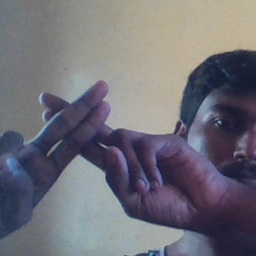F: (17, 69, 151, 210)
